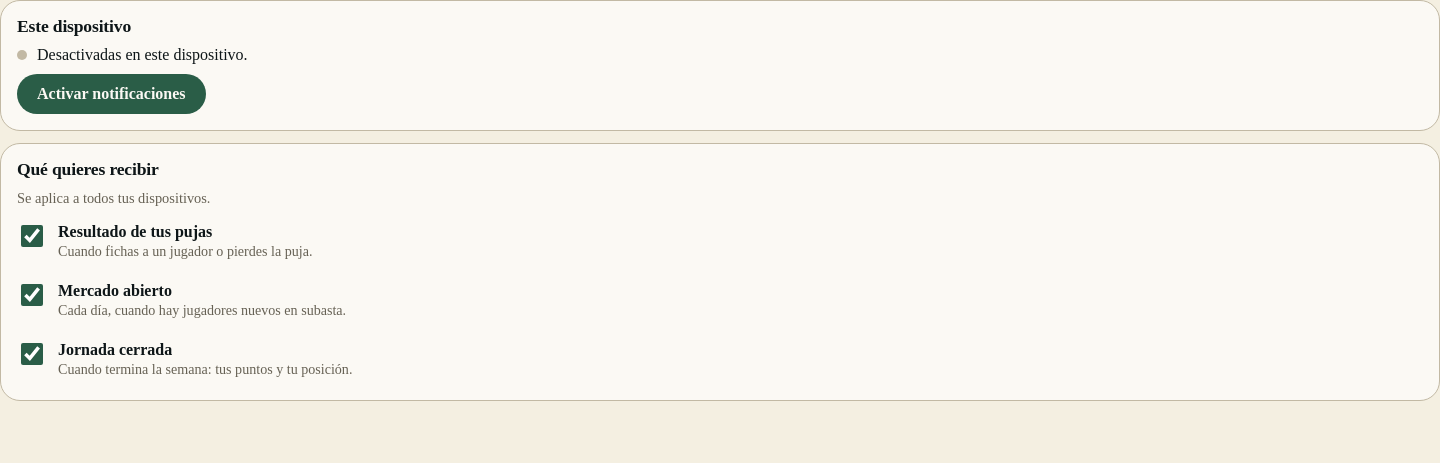
NotificationSettings › a preference switch saves both values and confirms
Click the 1st checkbox at (32, 236), box top-left (21, 225), bottom-right (43, 247)
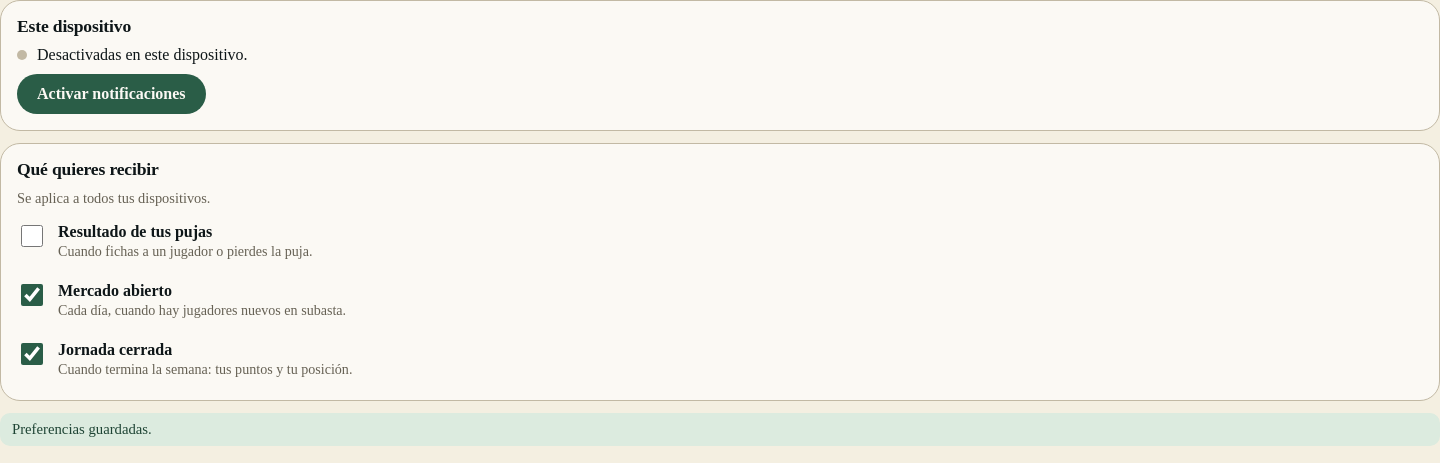
Expected: the 1st checkbox is not checked, top-left (21, 225), bottom-right (43, 247)
Expected: the text "Preferencias guardadas." is shown, top-left (0, 413), bottom-right (1439, 446)
